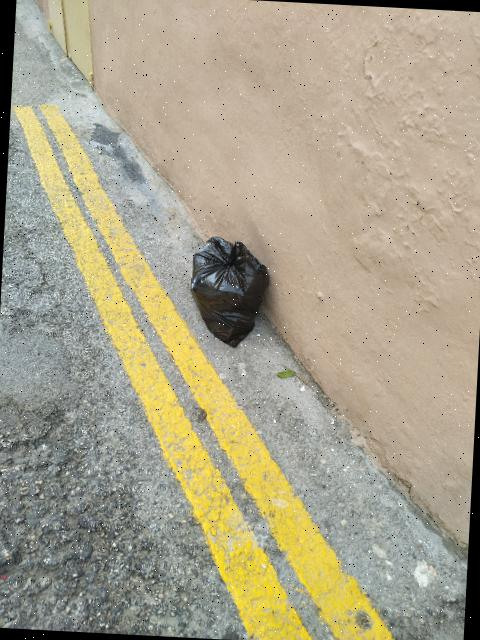Mixed -Black-: (191, 237, 269, 346)
